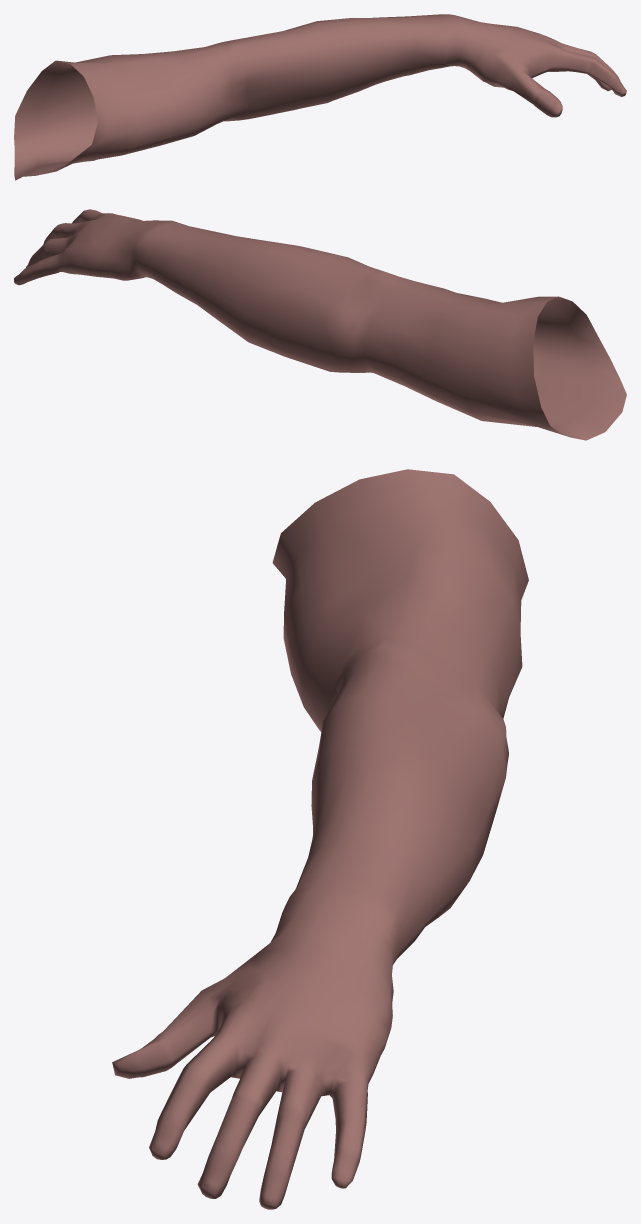
Rendered from low_poly_hand_l_update.obj.
3 views of the same model, one above another, from view 1: azimuth 30°, elevation 25°; view 2: azimuth 150°, elevation 25°; view 3: azimuth 270°, elevation 25° (orthographic). The views are drawn at different scales.
Visible parts, largest first — view 1: low_poly_hand_l_update_0; view 2: low_poly_hand_l_update_0; view 3: low_poly_hand_l_update_0.
Boxes of the visible parts, x1,y1,x2,y2 form: low_poly_hand_l_update_0: (14,14,626,180); low_poly_hand_l_update_0: (14,209,626,440); low_poly_hand_l_update_0: (112,469,528,1209).
Size of the model in its own units: 0.6367 by 0.1331 by 0.2027.
